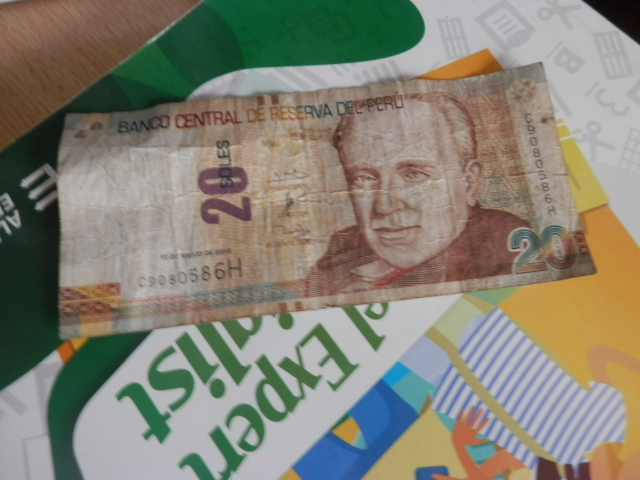B20: (52, 97, 594, 332)
